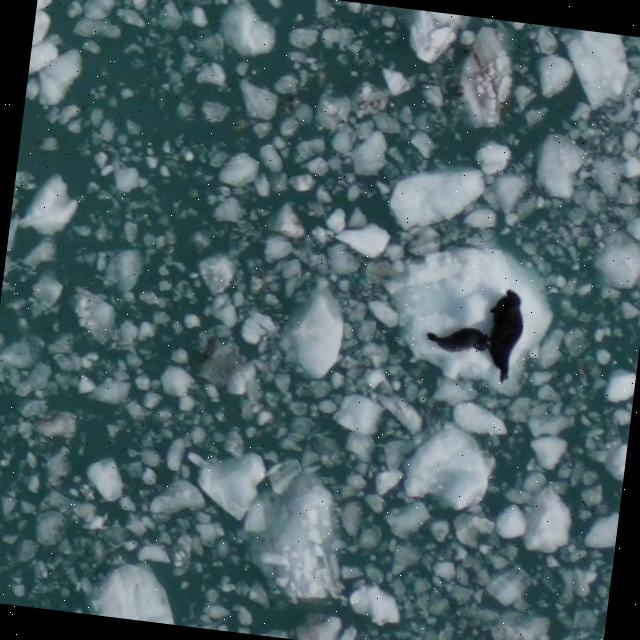seal: (486, 288, 526, 384), (428, 327, 487, 350)
